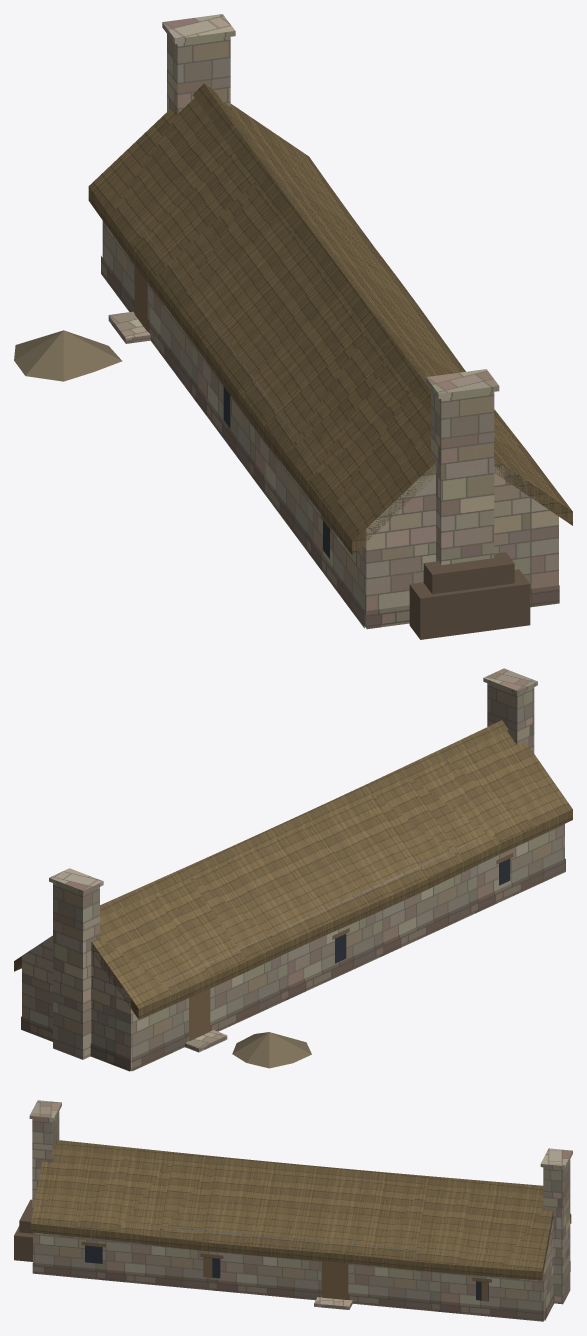
The picture shows the model from 3 angles, top to bottom: view 1: azimuth 30°, elevation 25°; view 2: azimuth 150°, elevation 25°; view 3: azimuth 270°, elevation 25°; orthographic projection. The views are drawn at different scales.
Visible parts, largest first — view 1: b001089_thatch, b001089_wall, b001089_peat, b001089_base, b001089_dung; view 2: b001089_thatch, b001089_wall, b001089_base, b001089_dung, b001089_oak, b001089_glass; view 3: b001089_thatch, b001089_wall, b001089_base, b001089_oak, b001089_peat, b001089_glass.
Boxes of the visible parts, bbox=[...] form: b001089_thatch: bbox=[88, 83, 572, 555]; b001089_wall: bbox=[102, 14, 558, 628]; b001089_peat: bbox=[409, 552, 530, 639]; b001089_base: bbox=[101, 256, 559, 629]; b001089_dung: bbox=[14, 330, 122, 381]; b001089_thatch: bbox=[14, 720, 572, 1019]; b001089_wall: bbox=[22, 668, 564, 1070]; b001089_base: bbox=[21, 858, 565, 1071]; b001089_dung: bbox=[232, 1032, 311, 1068]; b001089_oak: bbox=[189, 853, 513, 1041]; b001089_glass: bbox=[335, 858, 510, 963]; b001089_thatch: bbox=[31, 1140, 571, 1280]; b001089_wall: bbox=[29, 1100, 572, 1320]; b001089_base: bbox=[32, 1261, 570, 1321]; b001089_oak: bbox=[81, 1242, 491, 1301]; b001089_peat: bbox=[14, 1199, 32, 1261]; b001089_glass: bbox=[85, 1245, 488, 1301].
Size of the model in its own units: 8.69 by 5.38 by 19.57.
Materials: 7 (3 with a texture image).
